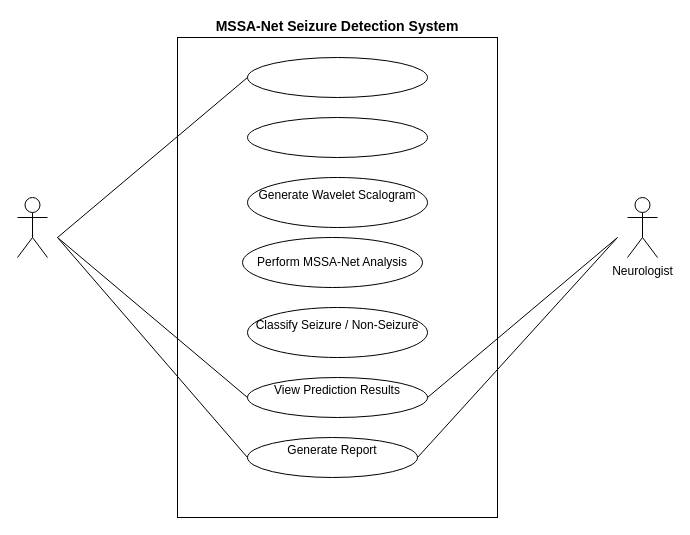
This 690x535 diagram has some shape labels left out. The shapes that lost their labels are listed below. From the top down, each one's centre as x and y in pixels, then its label:
point 337,77: Upload EEG Signal
point 337,137: Preprocess EEG Data
point 32,227: User
